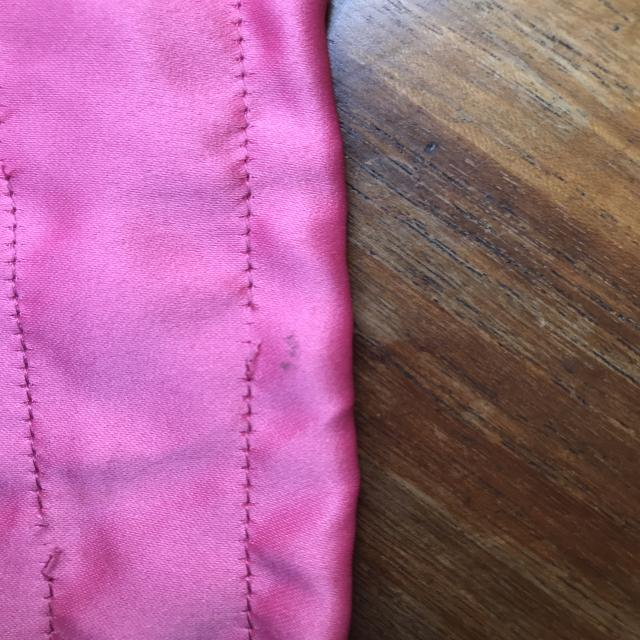broken: (20, 503, 80, 587), (226, 278, 273, 383)
